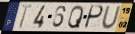4: (31, 4, 46, 30)
6: (52, 6, 67, 29)
P: (83, 5, 105, 30)
Q: (67, 4, 85, 30)
T: (18, 4, 33, 29)
U: (101, 6, 122, 30)
